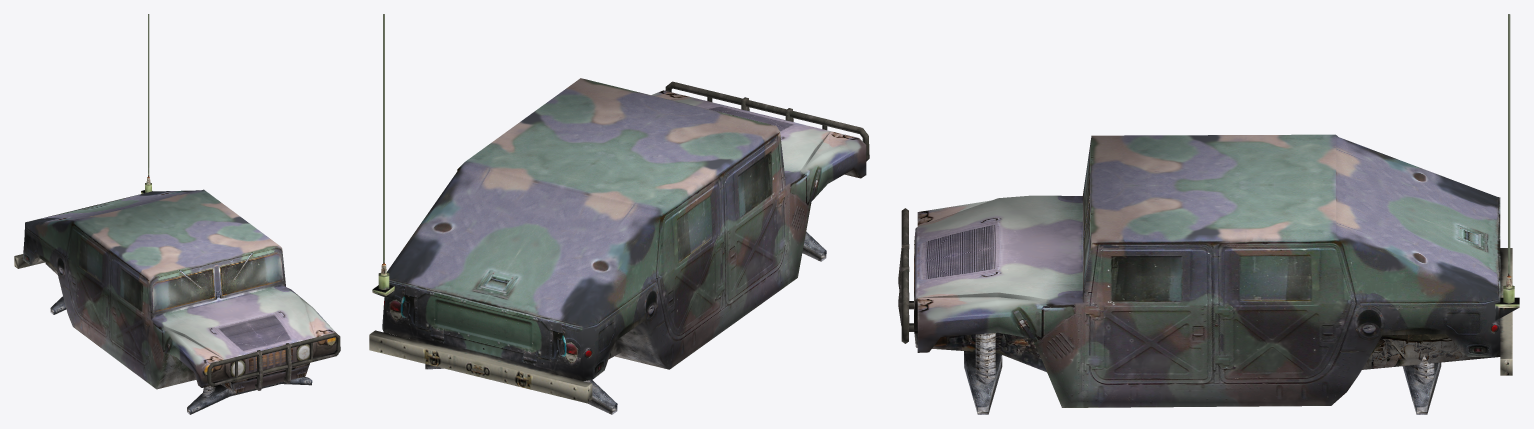
Rendered from jeep.obj.
3 views of the same model, side by side, from view 1: azimuth 30°, elevation 25°; view 2: azimuth 150°, elevation 25°; view 3: azimuth 270°, elevation 25° (orthographic). The views are drawn at different scales.
Parts seen in each view (by area): view 1: Body_Mesh, F_Suspension_Mesh.001; view 2: Body_Mesh, B_Suspension_Mesh.004; view 3: Body_Mesh, F_Suspension_Mesh.001, B_Suspension_Mesh.004.
Part boxes in pixels (left/top/right/bottom): Body_Mesh: left=14, top=14, right=340, bottom=393; F_Suspension_Mesh.001: left=187, top=376, right=312, bottom=414; Body_Mesh: left=369, top=14, right=869, bottom=403; B_Suspension_Mesh.004: left=425, top=364, right=617, bottom=414; Body_Mesh: left=898, top=14, right=1519, bottom=407; F_Suspension_Mesh.001: left=964, top=333, right=1002, bottom=414; B_Suspension_Mesh.004: left=1402, top=355, right=1441, bottom=414.
Size of the model in its own units: 1.44 by 2.43 by 3.41.
1 material, 1 textured.
